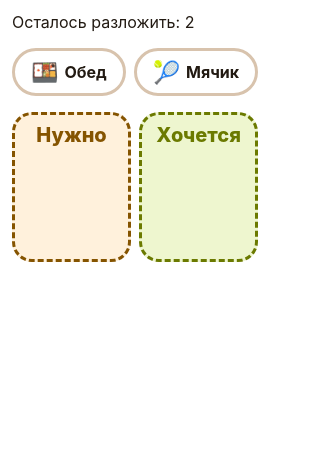
Test: Нужно или хочется › по-прежнему раскладывает нажатиями
Step 1. Click the button "🍱 Обед" → (69, 72), box [12, 48, 126, 96]
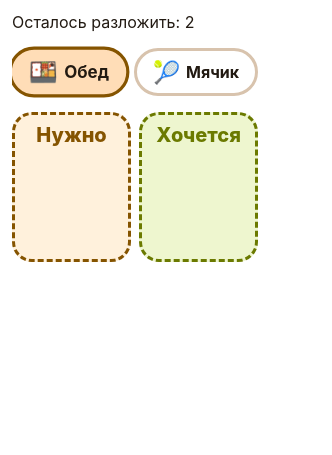
Step 2. Click the button with aria-label "Корзина «Нужно»" → (72, 187), box [12, 112, 131, 262]
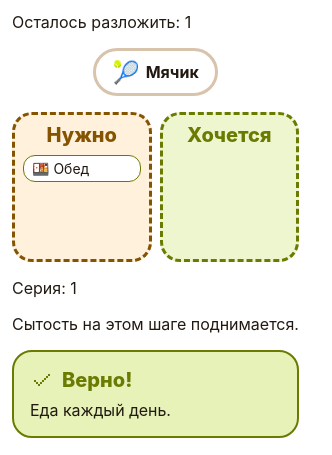
Now the message "Верно!" is shown, box [12, 350, 299, 438]
